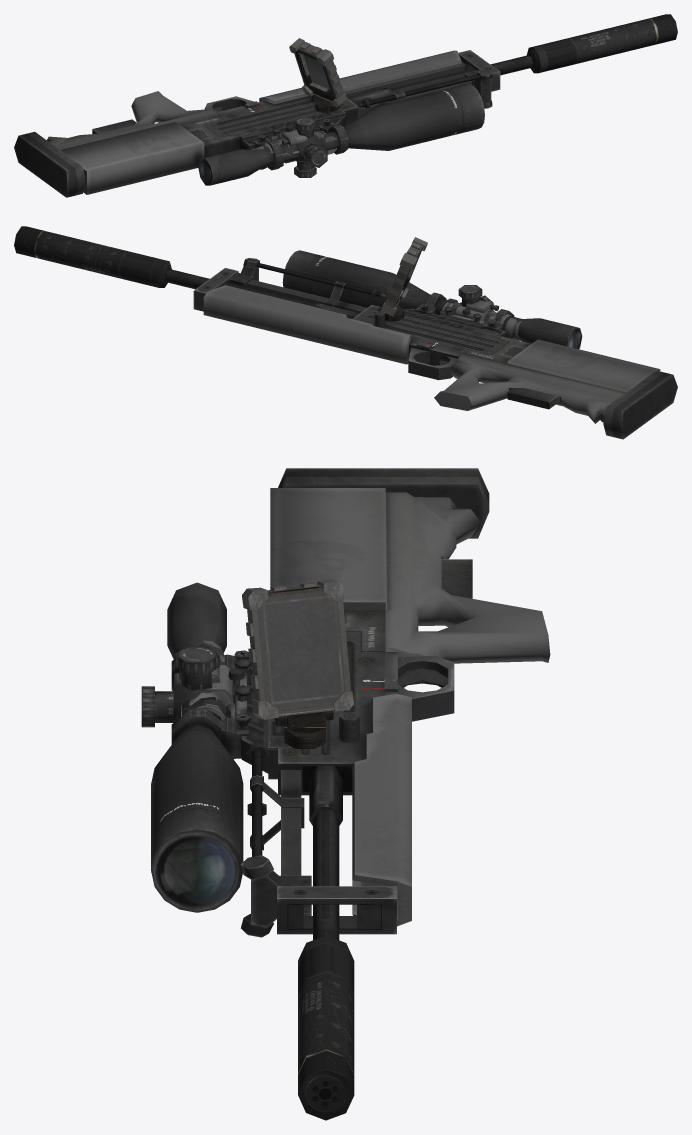
The model's file is weapon_wa2000_digital_LOD0.obj.
3 views of the same model, one above another, from view 1: azimuth 30°, elevation 25°; view 2: azimuth 150°, elevation 25°; view 3: azimuth 270°, elevation 25° (orthographic). The views are drawn at different scales.
Visible parts, largest first — view 1: mtl_weapon_wa2000_rifle_digital, mtl_weapon_wa2000_scope, mtl_weapon_suppressor_b, mtl_weapon_motion_tracker_digital, mtl_weapon_thermal_sight_2_digital, mtl_weapon_acog_2_digital; view 2: mtl_weapon_wa2000_rifle_digital, mtl_weapon_wa2000_scope, mtl_weapon_suppressor_b, mtl_weapon_motion_tracker_digital, mtl_weapon_thermal_sight_2_digital, mtl_weapon_acog_2_digital; view 3: mtl_weapon_wa2000_rifle_digital, mtl_weapon_wa2000_scope, mtl_weapon_motion_tracker_digital, mtl_weapon_suppressor_b, mtl_weapon_thermal_sight_2_digital, mtl_weapon_acog_2_digital.
Boxes of the visible parts, x1,y1,x2,y2 form: mtl_weapon_wa2000_rifle_digital: (14, 50, 533, 197); mtl_weapon_wa2000_scope: (198, 84, 484, 185); mtl_weapon_suppressor_b: (526, 14, 677, 73); mtl_weapon_motion_tracker_digital: (289, 38, 346, 112); mtl_weapon_thermal_sight_2_digital: (258, 125, 336, 169); mtl_weapon_acog_2_digital: (250, 128, 324, 166); mtl_weapon_wa2000_rifle_digital: (165, 258, 677, 439); mtl_weapon_wa2000_scope: (282, 250, 582, 349); mtl_weapon_suppressor_b: (14, 226, 171, 287); mtl_weapon_motion_tracker_digital: (378, 237, 427, 321); mtl_weapon_thermal_sight_2_digital: (442, 298, 515, 339); mtl_weapon_acog_2_digital: (440, 301, 521, 340); mtl_weapon_wa2000_rifle_digital: (240, 468, 550, 940); mtl_weapon_wa2000_scope: (141, 582, 250, 912); mtl_weapon_motion_tracker_digital: (242, 579, 353, 748); mtl_weapon_suppressor_b: (298, 935, 354, 1120); mtl_weapon_thermal_sight_2_digital: (181, 643, 243, 719); mtl_weapon_acog_2_digital: (174, 639, 250, 718).
Bounding box in the file's own units: 114 × 18.24 × 32.75.
